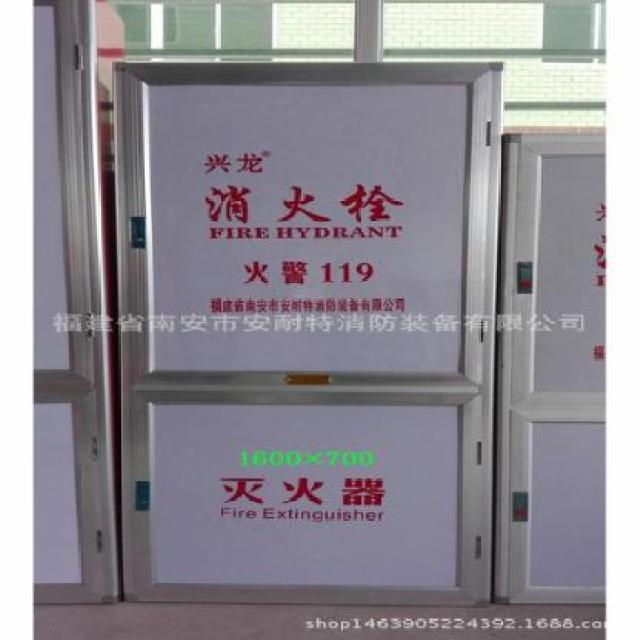firehydrant: (112, 57, 502, 613), (495, 128, 640, 609), (31, 0, 127, 611)
